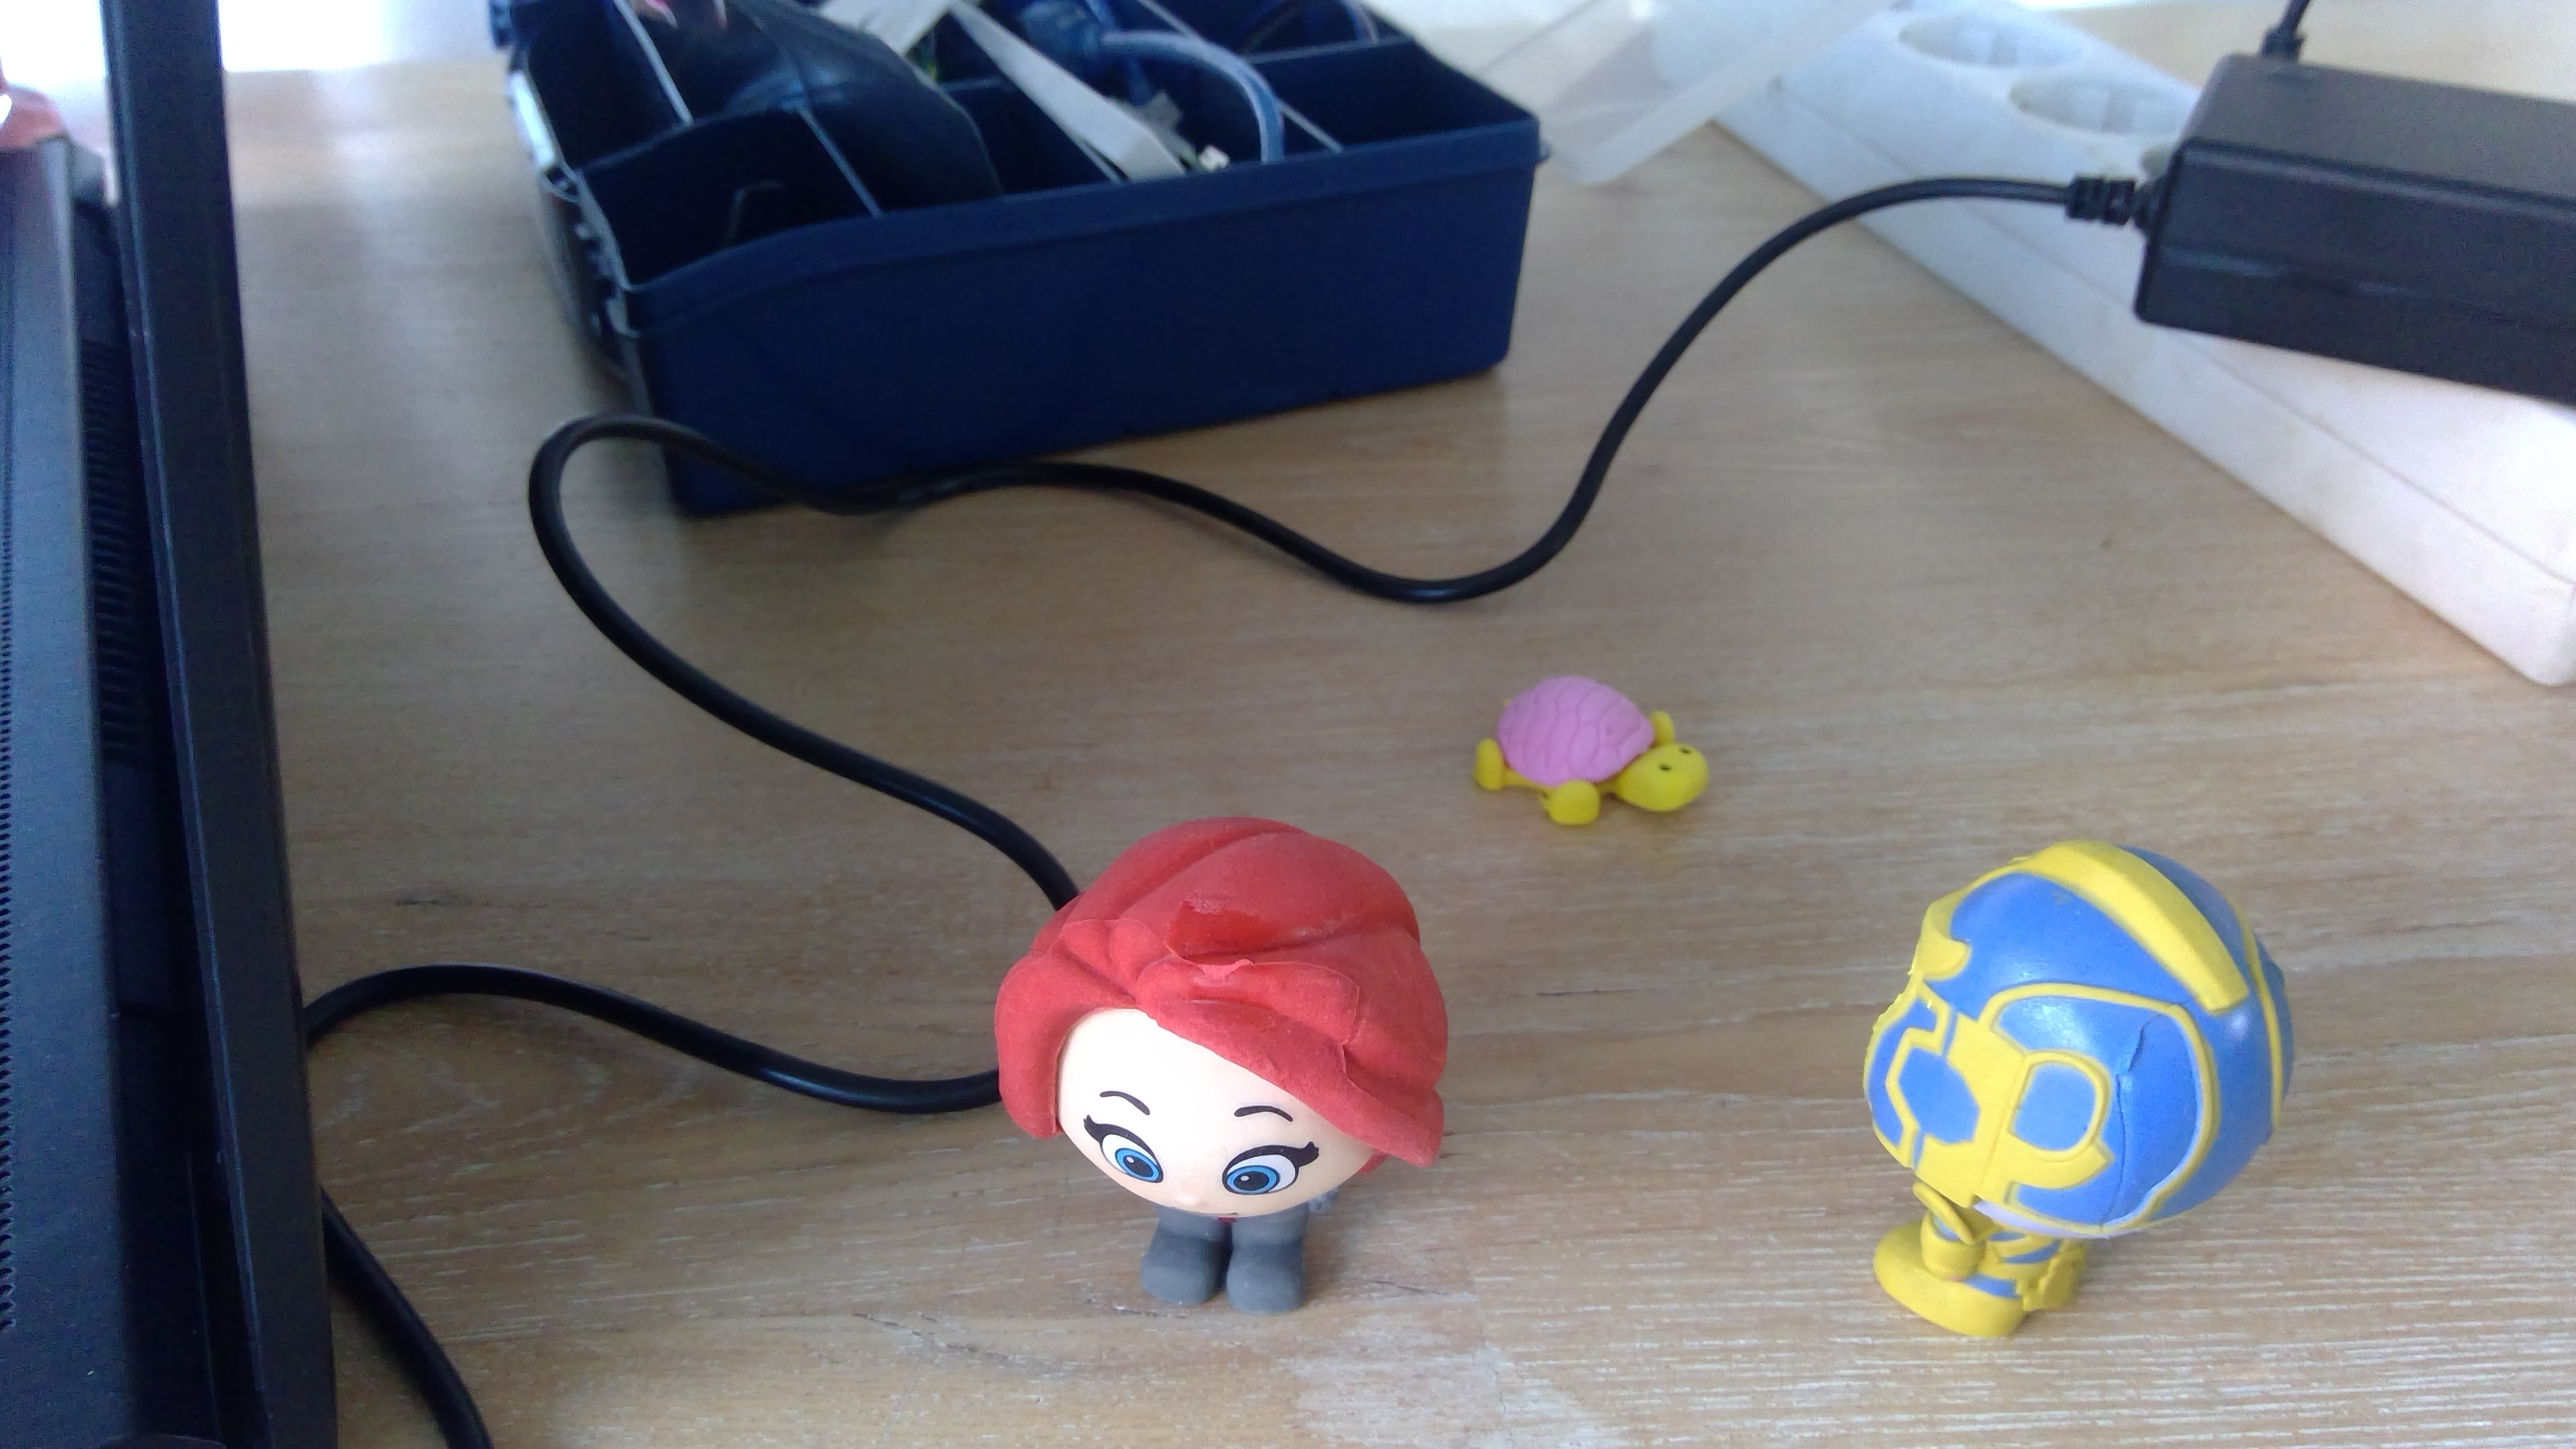schil: (1465, 678, 1713, 830)
spin: (989, 809, 1461, 1327)
thanos: (1859, 840, 2291, 1352)
